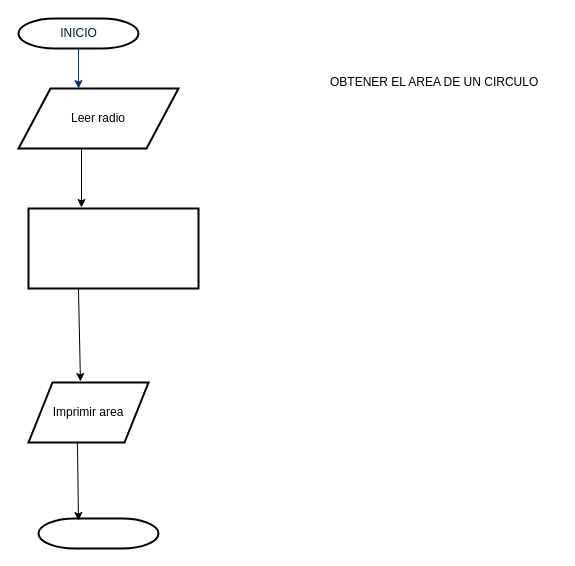
The diagram is 575 pixels wide and 566 high, and some of its shapes have lost their labels. Each missing label, with the centre of its shape:
"area = radio x radio x π" goes at point (113, 248).
"FIN" goes at point (98, 533).
